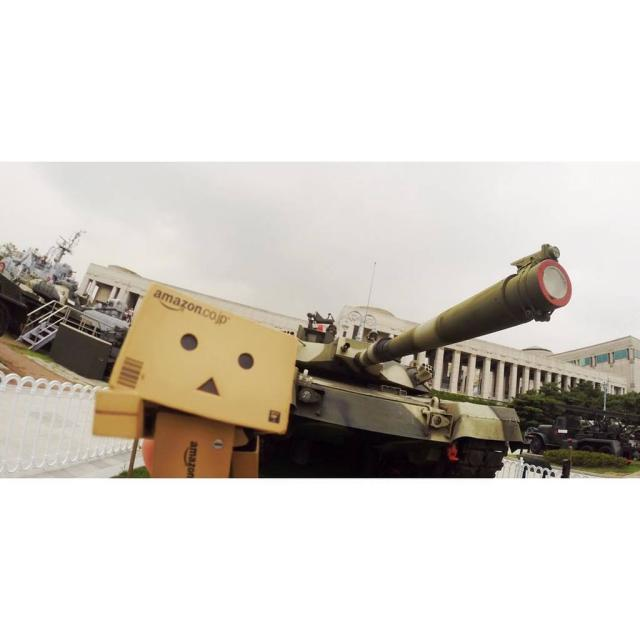tank: (259, 243, 572, 478)
